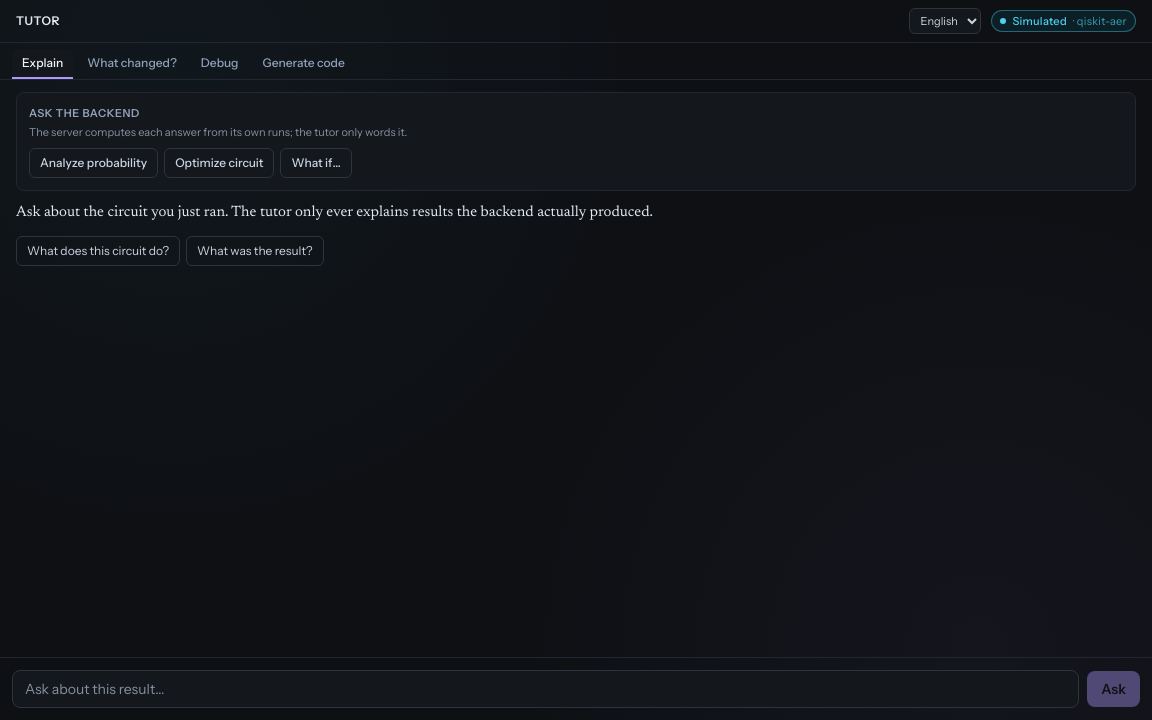
TutorPanel › renders the unsupported-question answer as an honest reply, not an error
Type "Tell me a joke." into the field with placeholder "Ask about this result…" at [546, 689], box x1=12 y1=670 x2=1079 y2=708
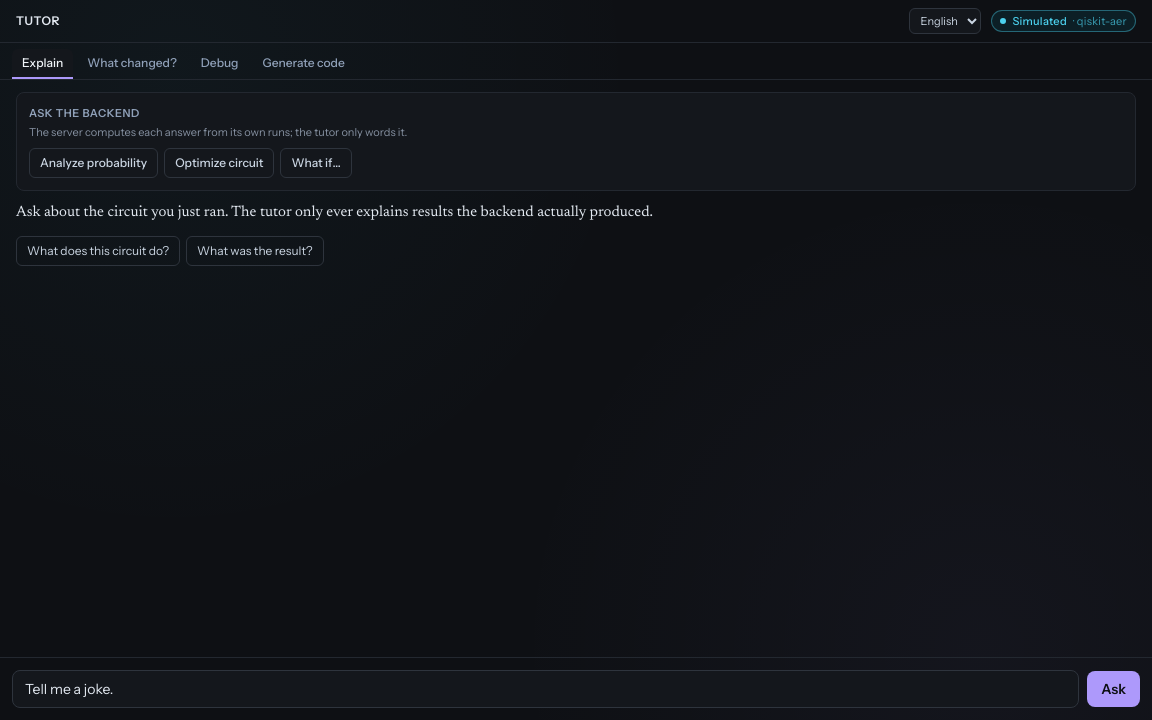
Click the button "Ask" at [1114, 689], box x1=1087 y1=671 x2=1140 y2=707
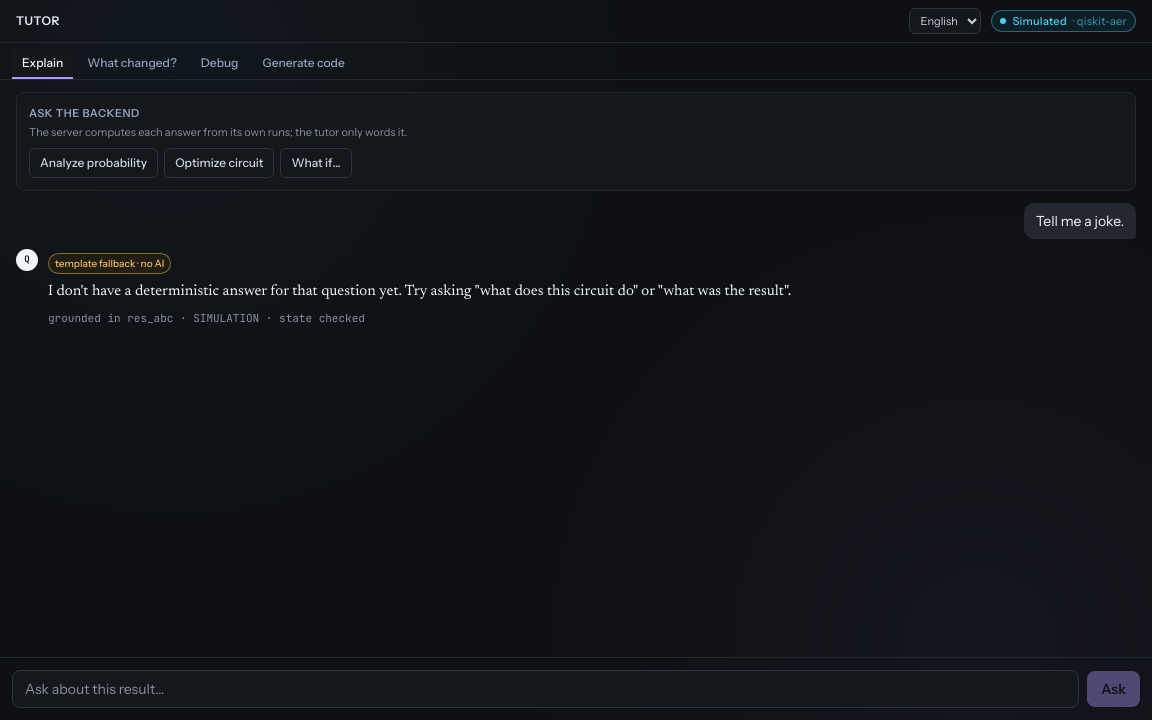
Expected: the text "don't have a deterministic answer" is shown, x1=48 y1=284 x2=791 y2=299
